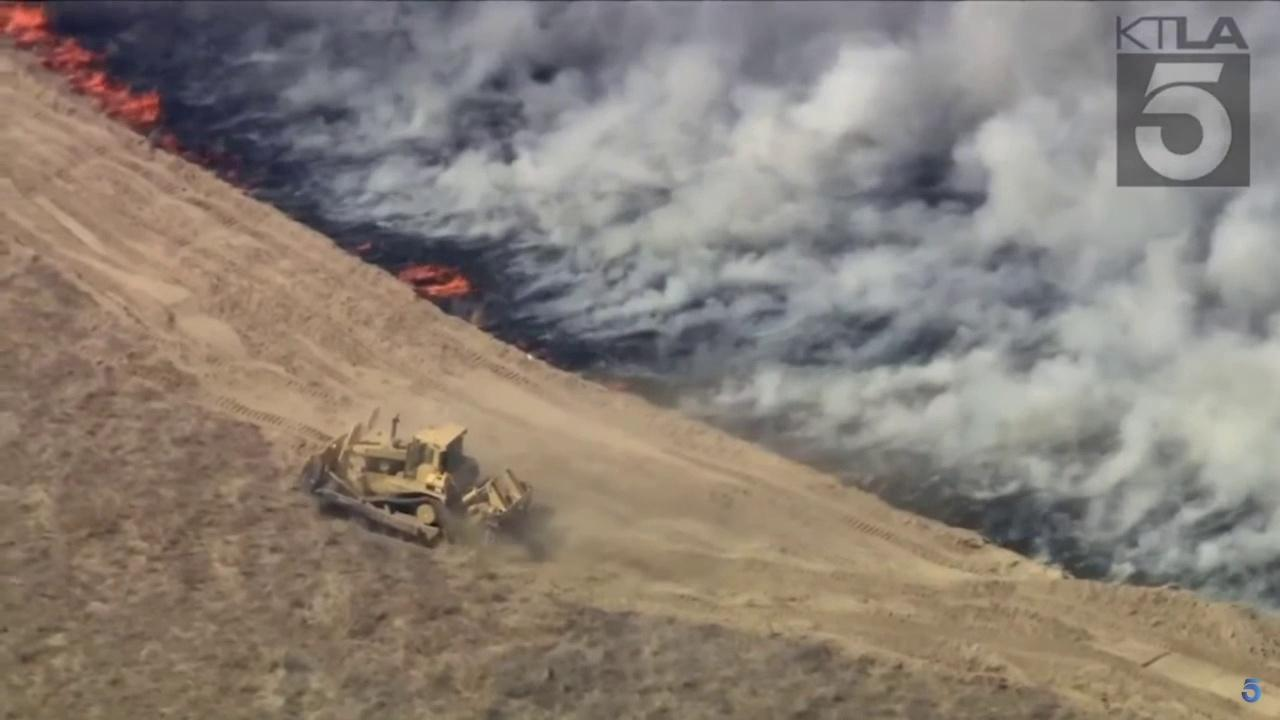fire: (0, 0, 181, 155), (394, 263, 473, 303)
smoke: (0, 0, 1280, 614)
